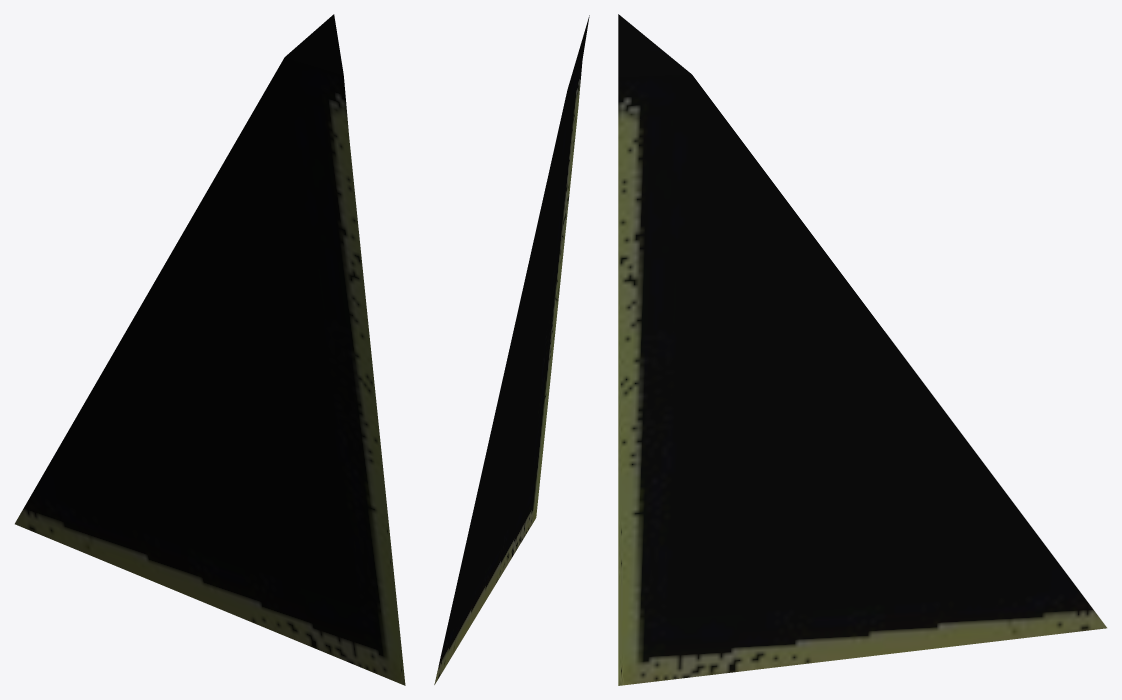
The picture shows the model from 3 angles, left to right: view 1: azimuth 30°, elevation 25°; view 2: azimuth 150°, elevation 25°; view 3: azimuth 270°, elevation 25°; orthographic projection. The views are drawn at different scales.
Size of the model in its own units: 0.6621 by 3.42 by 2.37.
Materials: 1 (1 with a texture image).
